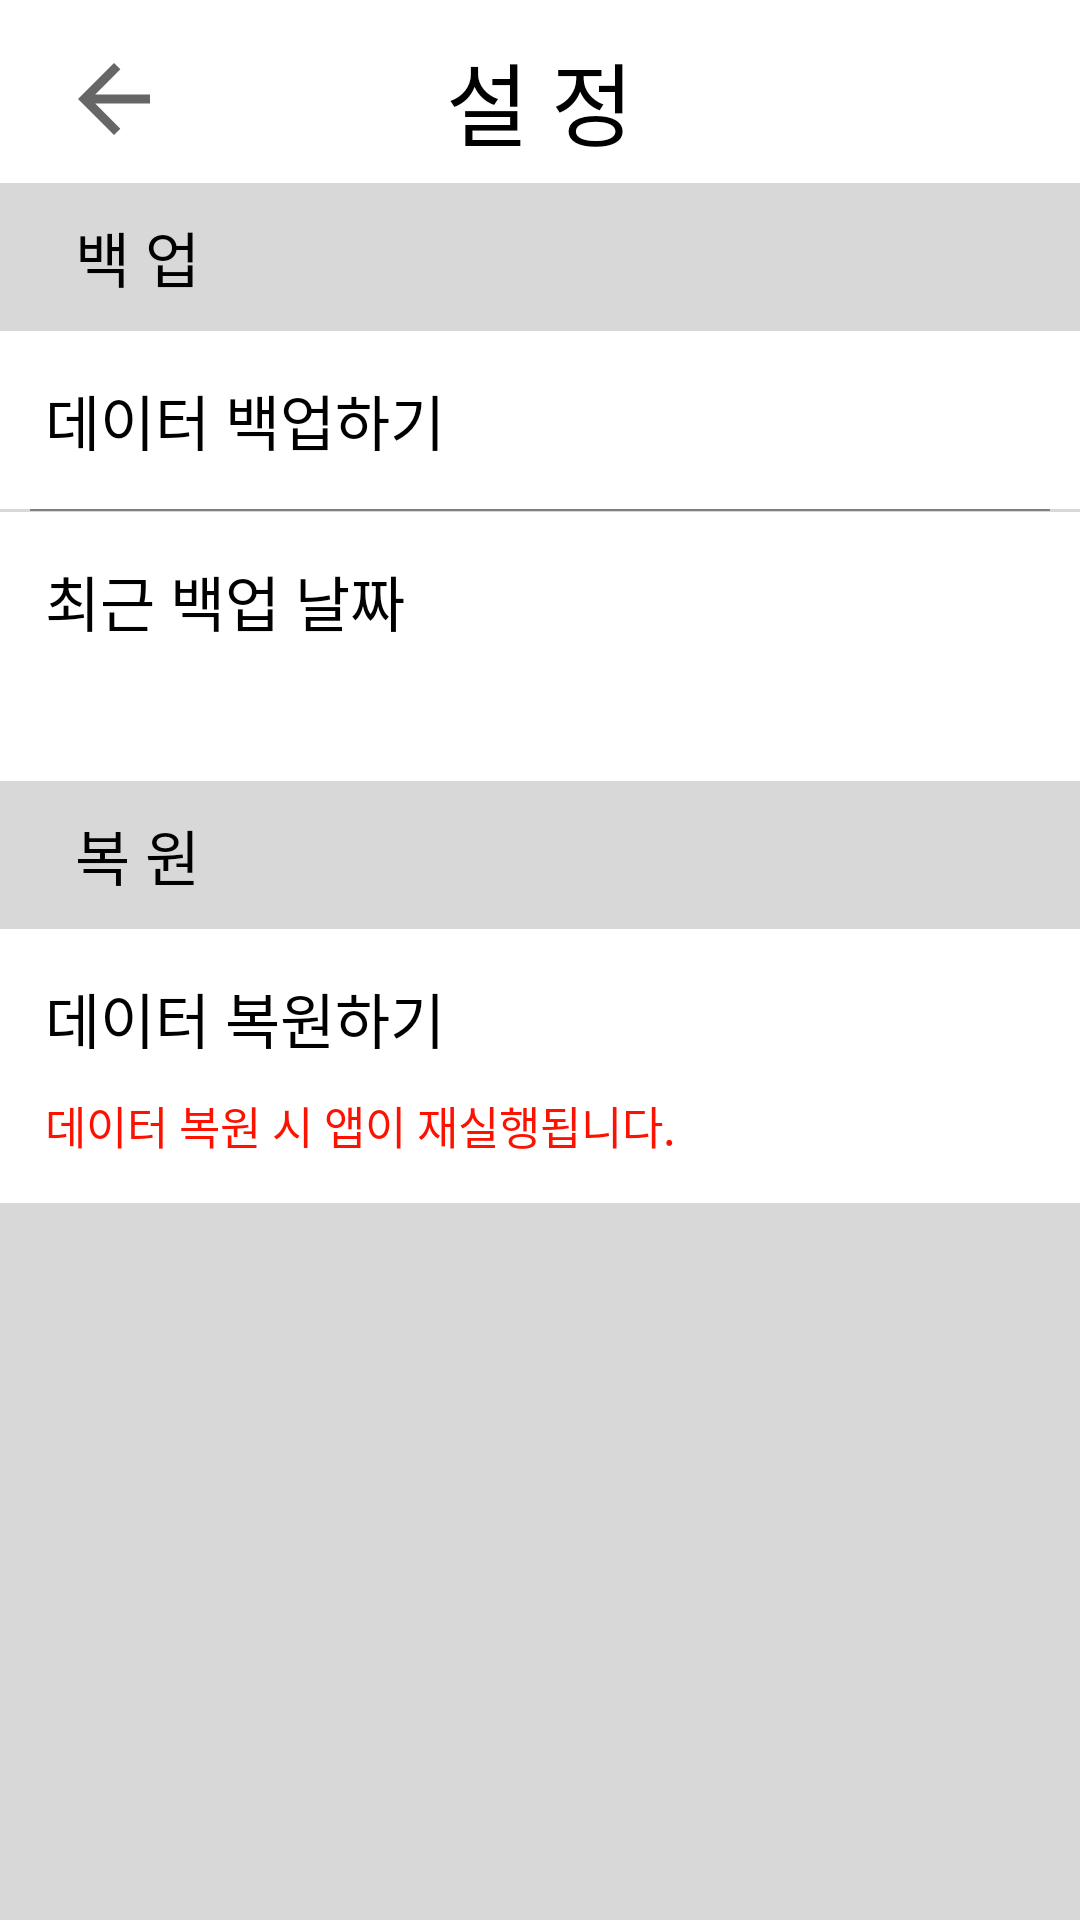

Named icons in this screenshot (1080w x 1920h) and their bounding boxes, Rect(x1, y1, x2, y2):
뒤로가기: Rect(78, 63, 150, 135)
